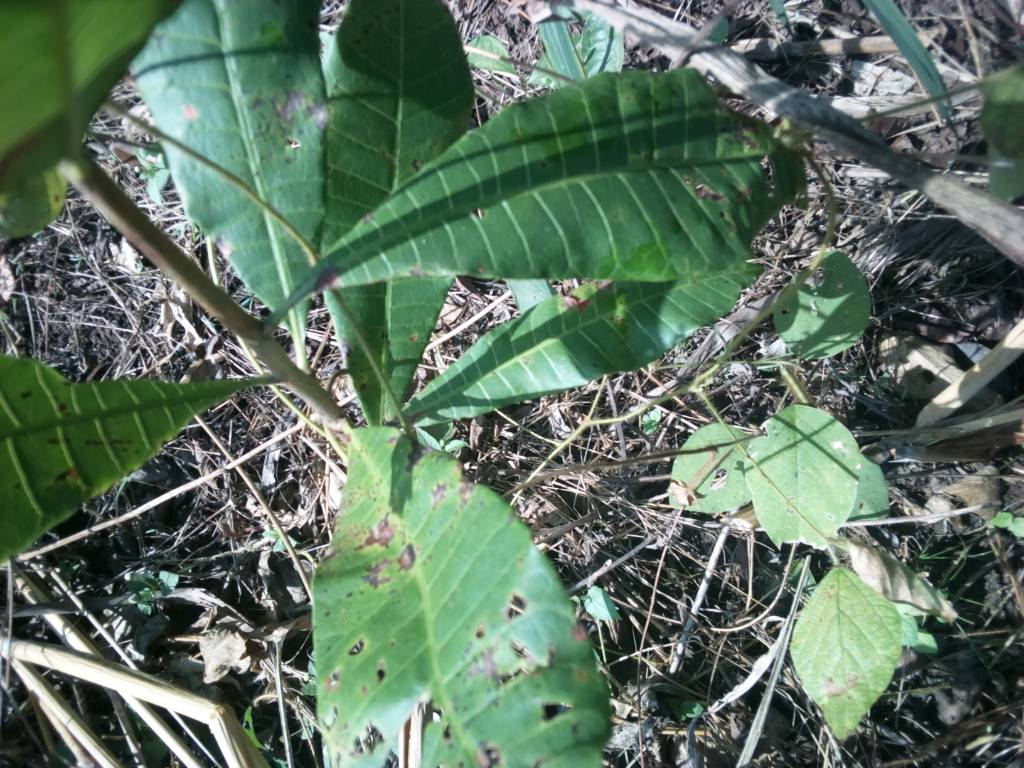Anoplocnemis curvipes: (330, 452, 570, 768)
